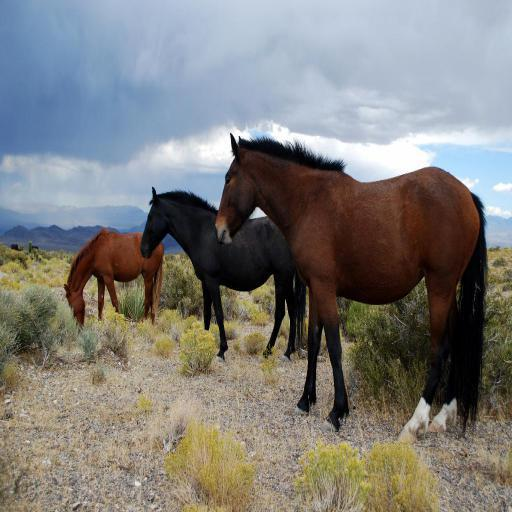horse: (214, 133, 488, 446), (139, 185, 307, 363), (64, 230, 164, 330)
